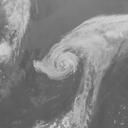cyclone: (32, 36, 106, 87)
